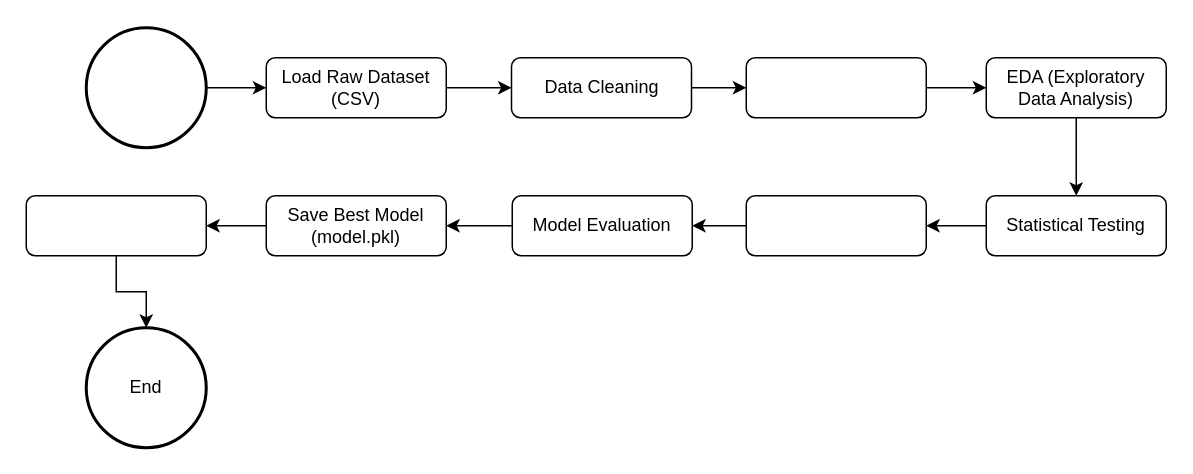
The diagram is 1193 pixels wide and 474 high, and some of its shapes have lost their labels. Each missing label, with the centre of its shape:
"Deployment" belongs at [115,225].
"Feature Engineering" belongs at [835,87].
"Modeling" belongs at [835,225].
"Start" belongs at [145,87].
